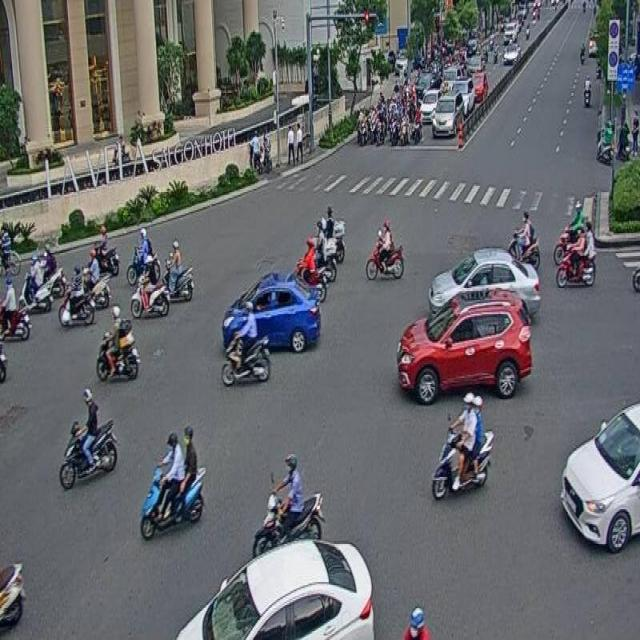car: (177, 541, 373, 640), (397, 290, 532, 406), (560, 401, 640, 550), (222, 271, 321, 355), (428, 247, 540, 312)
motorcycle: (140, 424, 207, 541), (429, 392, 494, 502), (253, 453, 326, 544), (59, 388, 118, 491), (95, 303, 140, 378), (364, 220, 405, 284), (130, 254, 170, 318), (18, 248, 51, 317), (59, 267, 95, 329), (162, 238, 194, 298)
